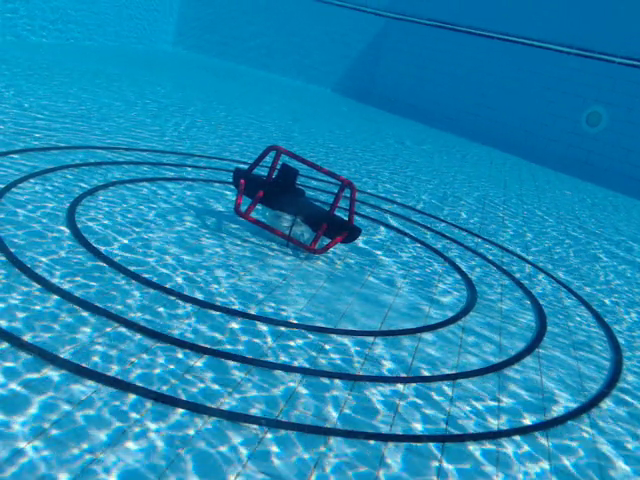submarine: (231, 143, 367, 260)
